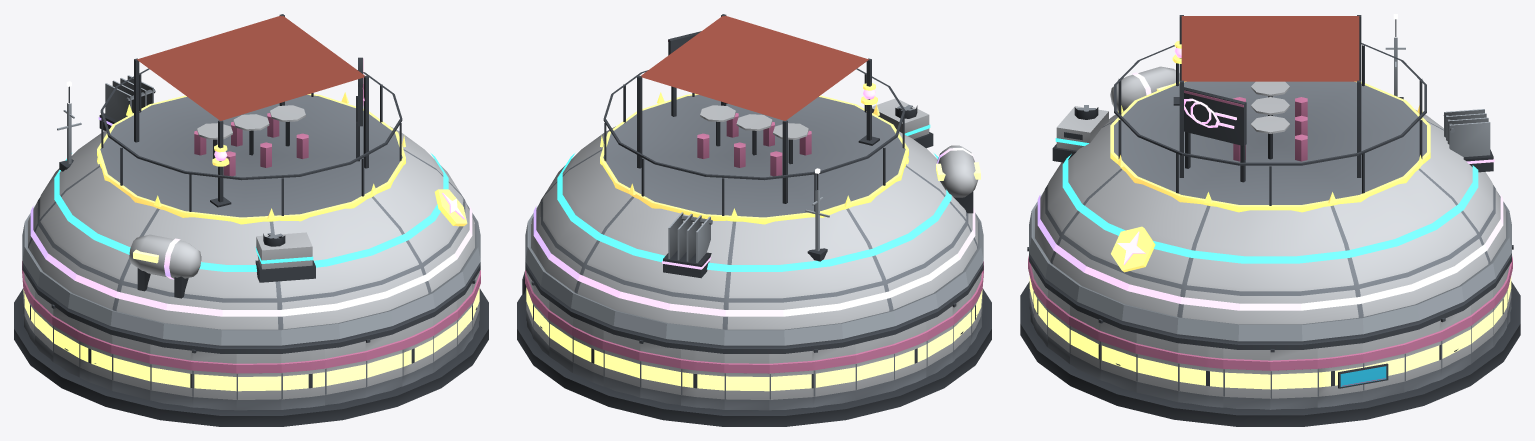
File: cantina.glb
The picture shows the model from 3 angles, left to right: view 1: azimuth 30°, elevation 25°; view 2: azimuth 150°, elevation 25°; view 3: azimuth 270°, elevation 25°; orthographic projection. The views are drawn at different scales.
Parts seen in each view (by area): view 1: Roof, Base, L3, L4, L5, Wall_21, Wall_20, Wall_22, Wall_19, Wall_23, Wall_18, Wall_24 (+18 smaller); view 2: Roof, Base, L3, L4, L5, Wall_10, Wall_11, Wall_09, Wall_12, Wall_08, Wall_13, Wall_07 (+17 smaller); view 3: Roof, Base, L3, L5, L4, Wall_00, Wall_31, Wall_30, Wall_29, Wall_01, Wall_28, Wall_03 (+18 smaller).
Boxes of the visible parts, x1,y1,x2,y2 form: Roof: (22,14,480,353); Base: (14,288,488,426); L3: (54,153,448,282); L4: (98,75,201,298); L5: (97,92,467,225); Wall_21: (236,354,281,410); Wall_20: (192,349,236,410); Wall_22: (281,349,325,409); Wall_19: (149,344,192,407); Wall_23: (325,341,366,405); Wall_18: (111,335,150,400); Wall_24: (365,330,403,397); Roof: (525,14,983,353); Base: (517,288,991,426); L3: (557,98,951,271); L4: (662,145,980,278); L5: (600,83,908,224); Wall_10: (724,354,769,410); Wall_11: (769,350,813,410); Wall_09: (680,349,724,409); Wall_12: (813,344,856,407); Wall_08: (639,340,680,405); Wall_13: (855,335,894,400); Wall_07: (602,330,640,397); Roof: (1029,15,1511,349); Base: (1020,281,1520,426); L3: (1052,105,1478,263); L5: (1110,41,1430,270); L4: (1110,66,1494,172); Wall_00: (1270,348,1317,409); Wall_31: (1223,348,1270,409); Wall_30: (1177,343,1223,407); Wall_29: (1135,333,1178,401); Wall_01: (1317,343,1363,407); Wall_28: (1098,319,1136,392); Wall_03: (1404,320,1441,392).
Size of the model in its own units: 9.72 by 5.94 by 9.72.
